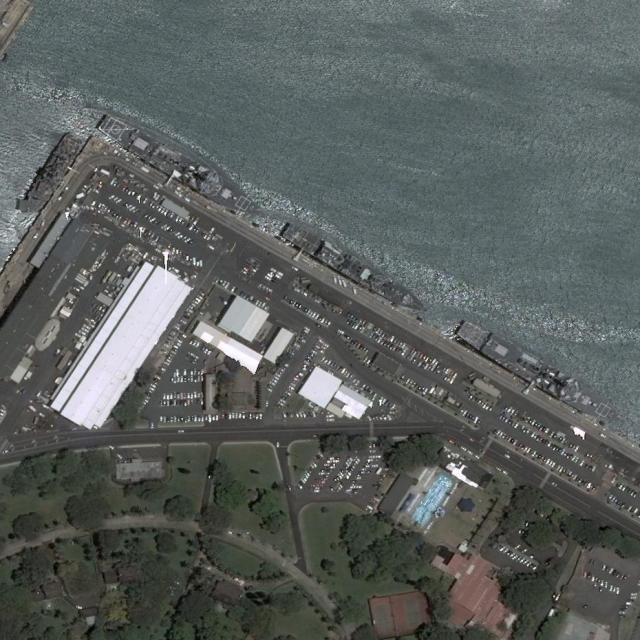Destroyer: (453, 314, 626, 429), (96, 111, 267, 221), (281, 220, 433, 319)
